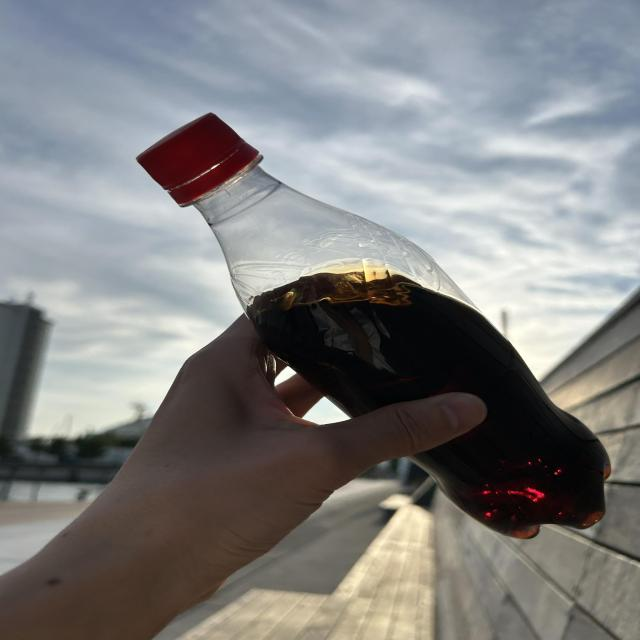medium: (137, 114, 609, 538)
